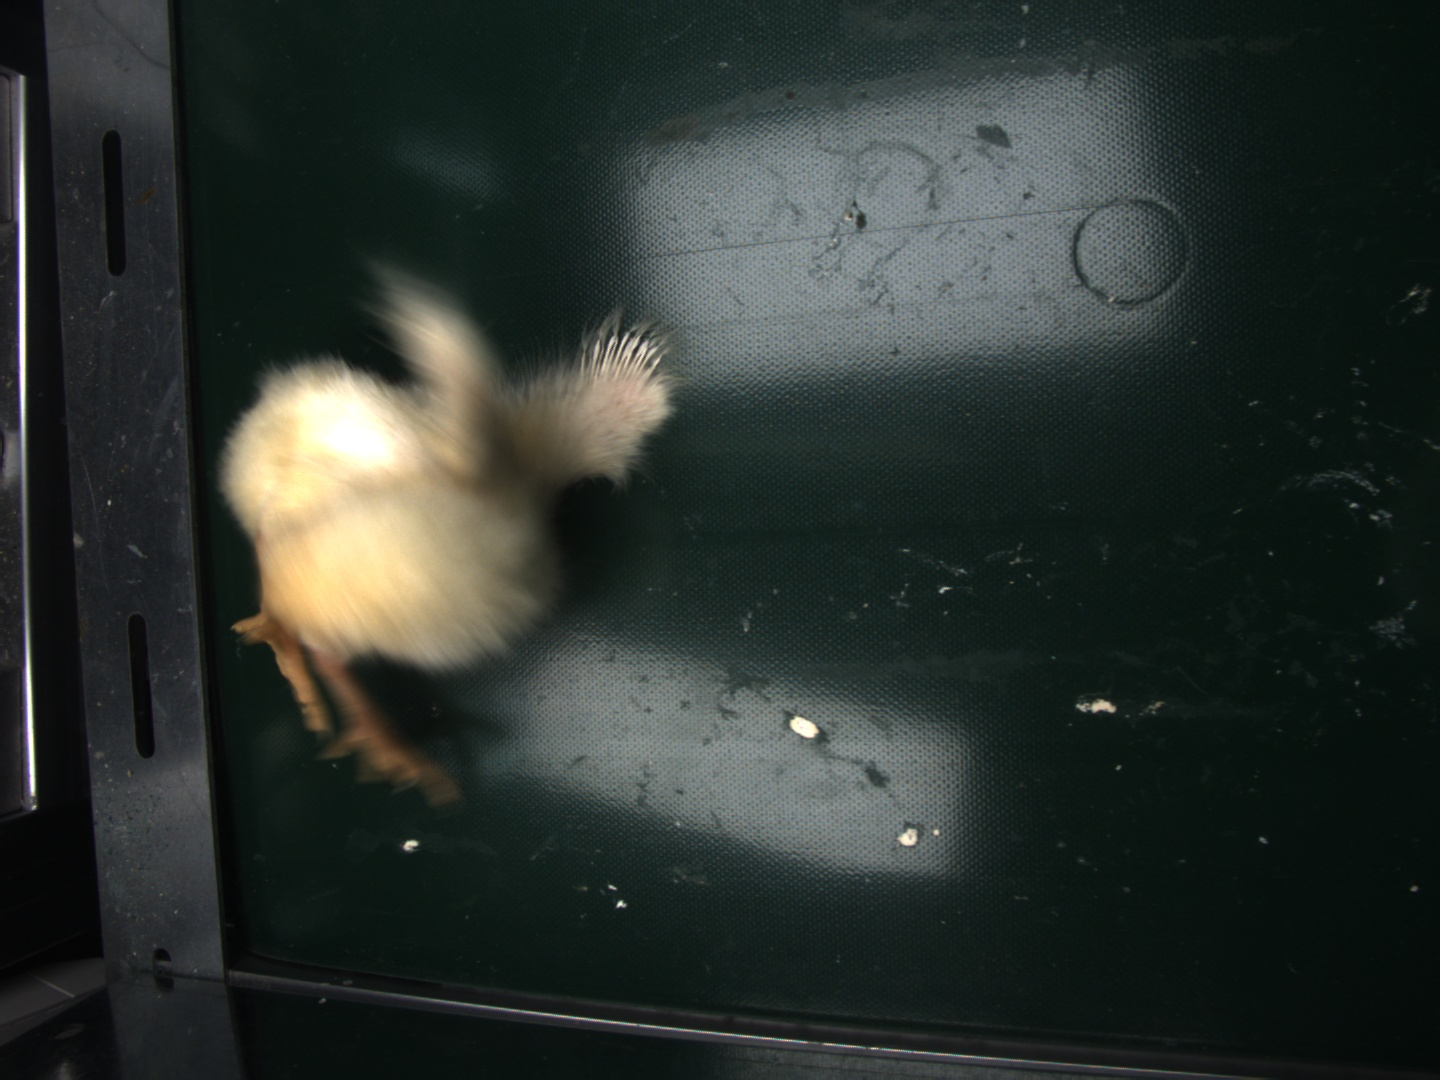male: (579, 334, 663, 387)
